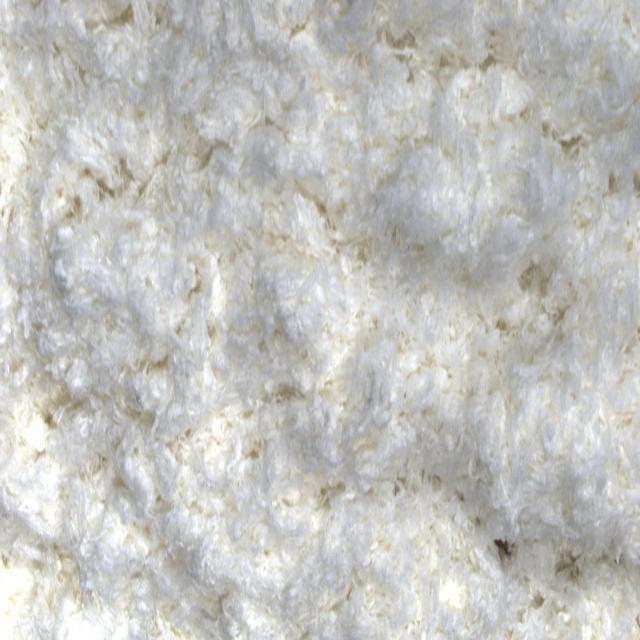dust: (491, 538, 524, 564)
